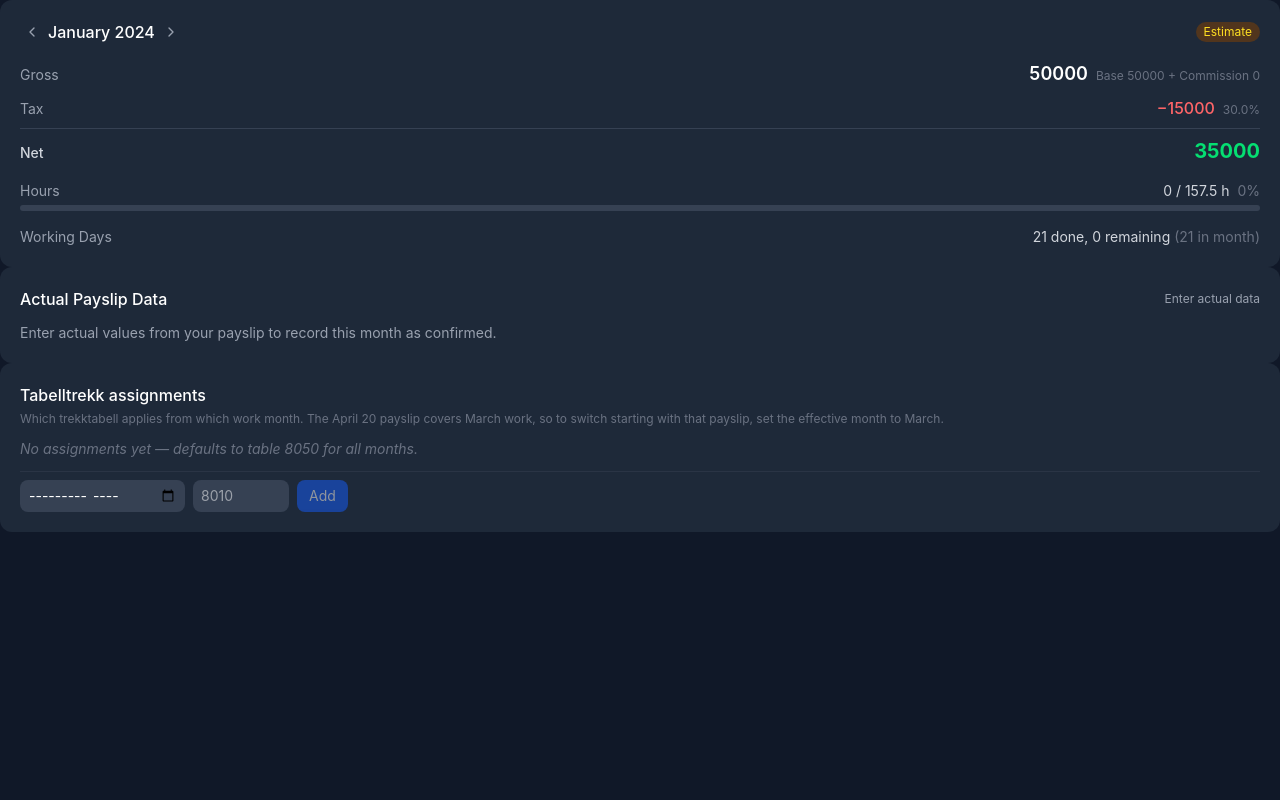
MonthView override decimal input › blocks the save when a required field is empty
The width and height of the screenshot is (1280, 800).
Click the button "Enter actual data" at (1212, 299), box x1=1164 y1=291 x2=1260 y2=307
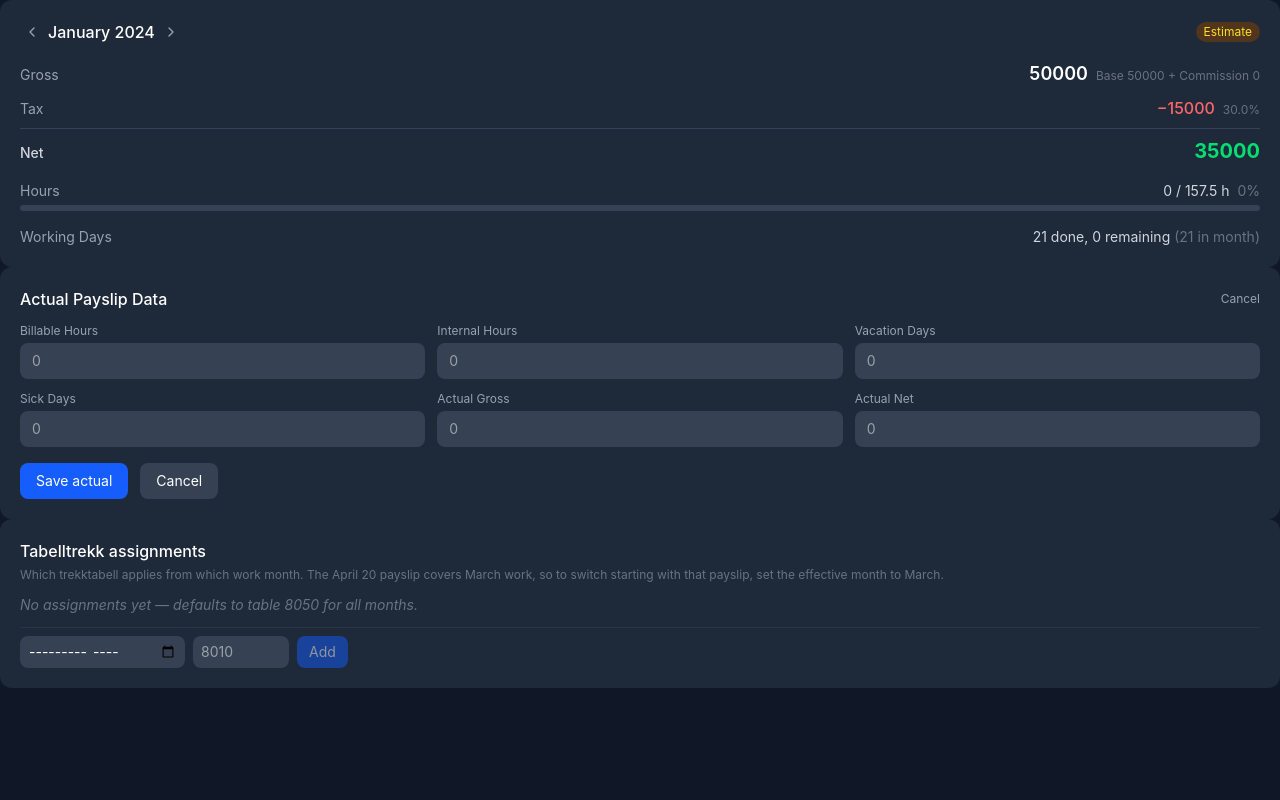
Type "7,5" into the field labelled "Billable Hours" at (223, 361), box x1=20 y1=343 x2=425 y2=379
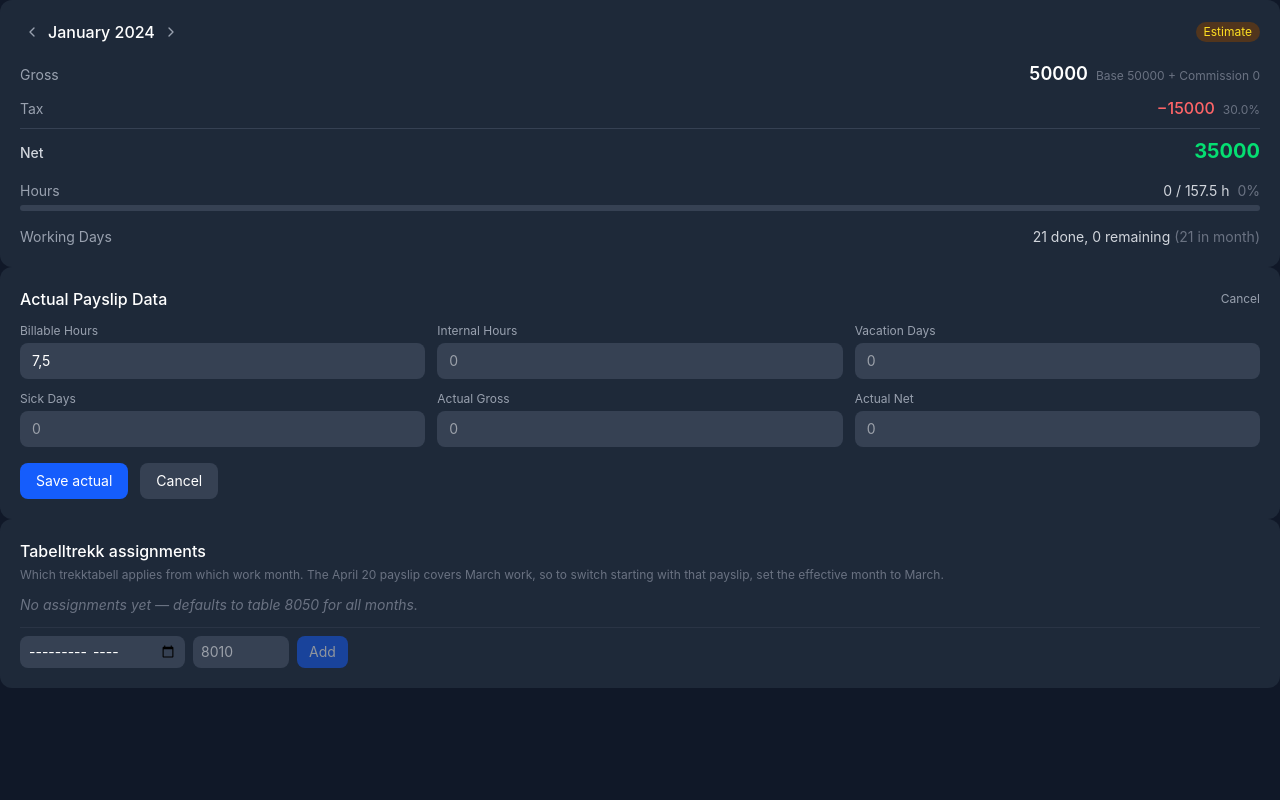
Type "1250" into the field labelled "Actual Gross" at (640, 429), box x1=437 y1=411 x2=843 y2=447
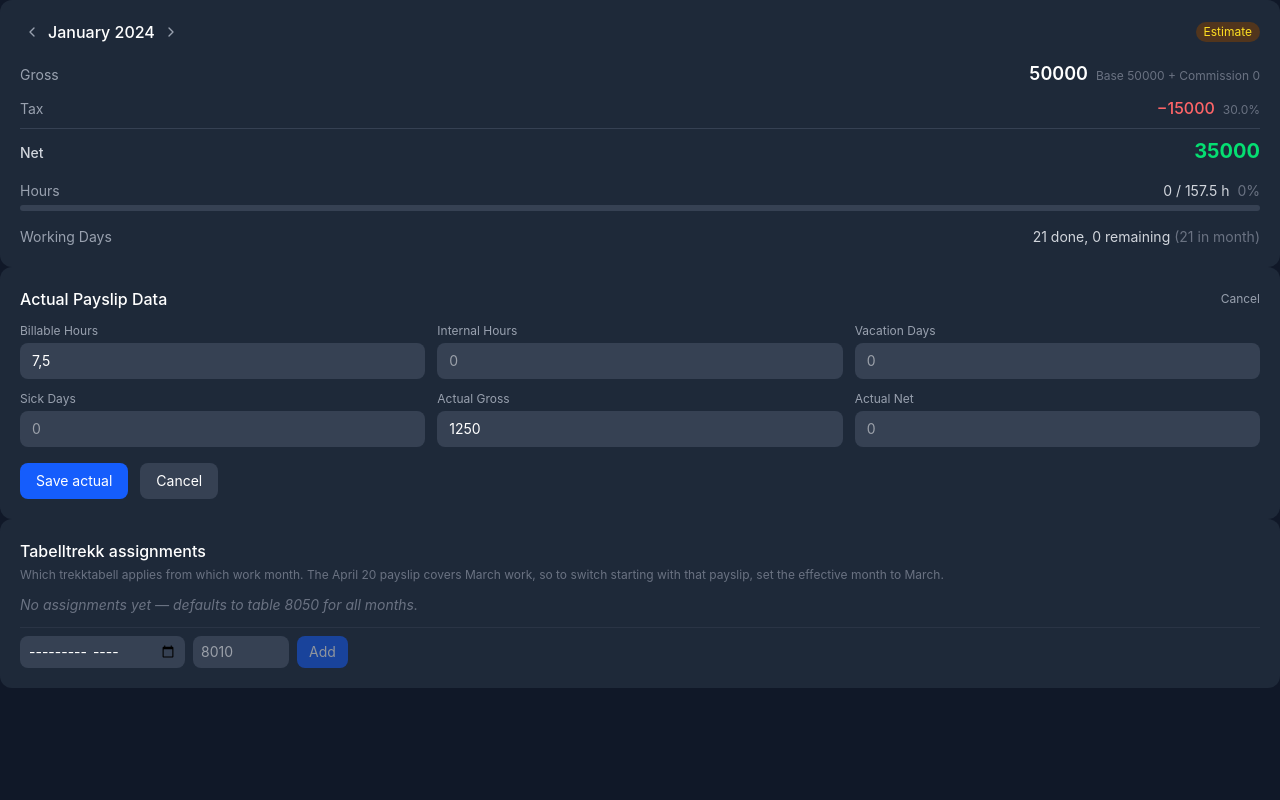
Click the button "Save actual" at (74, 481), box x1=20 y1=463 x2=128 y2=499
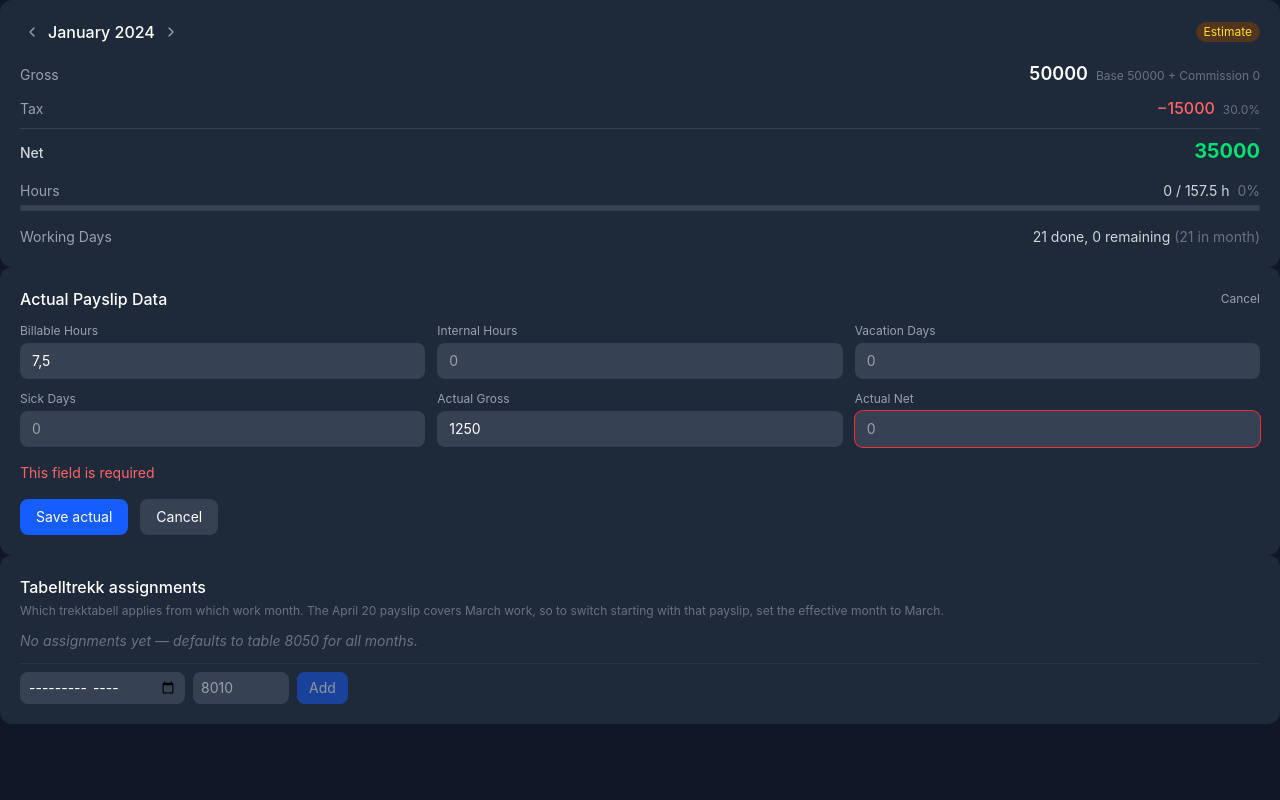
Expected: the text "This field is required" is shown, x1=20 y1=464 x2=155 y2=481
